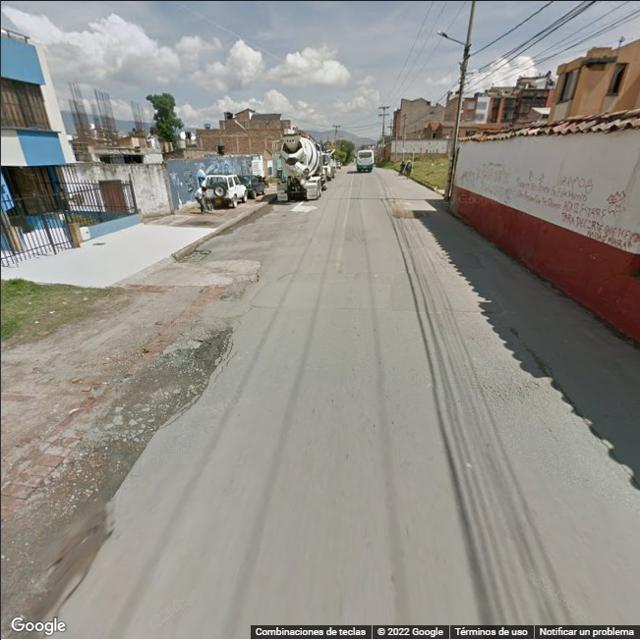D00: (219, 334, 237, 360)
D40: (112, 341, 210, 401)
